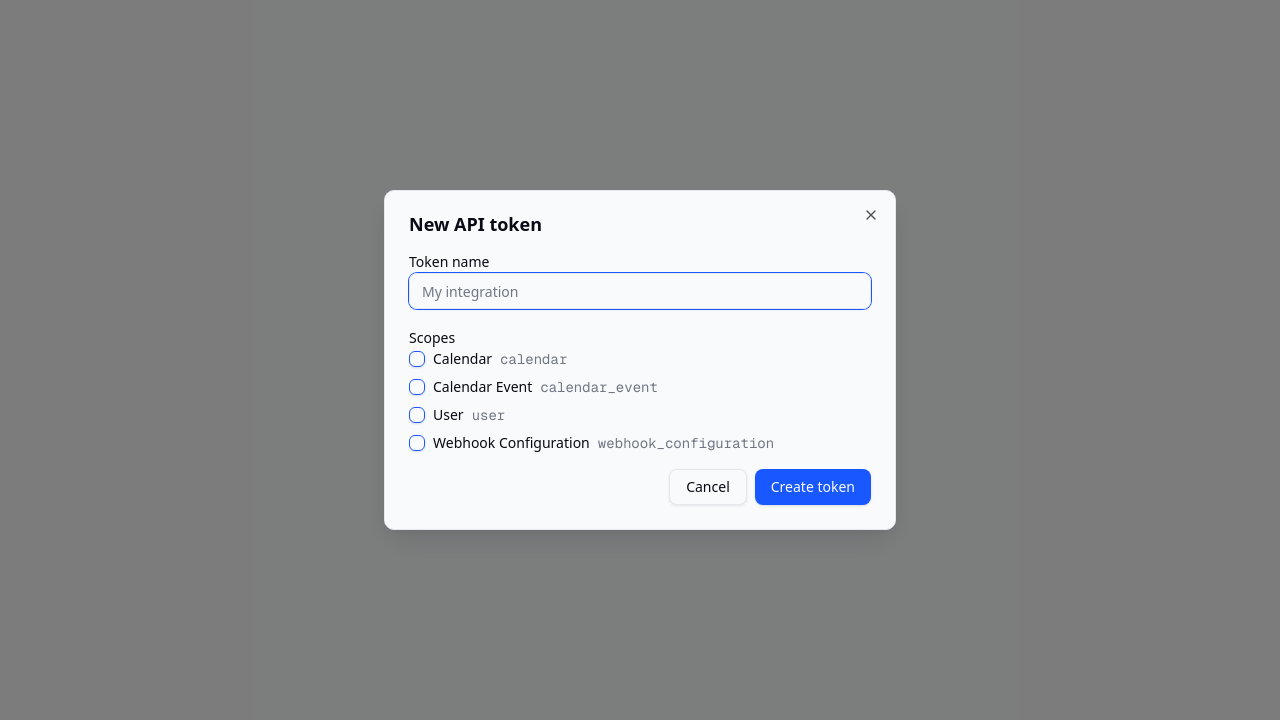
Scenario: NewTokenDialog › shows the one-time composed credential after successful create with copy button and warning
This screenshot has width=1280, height=720.
Type "Test Integration" into the field with placeholder "My integration" at (640, 291), box [409,273,871,309]
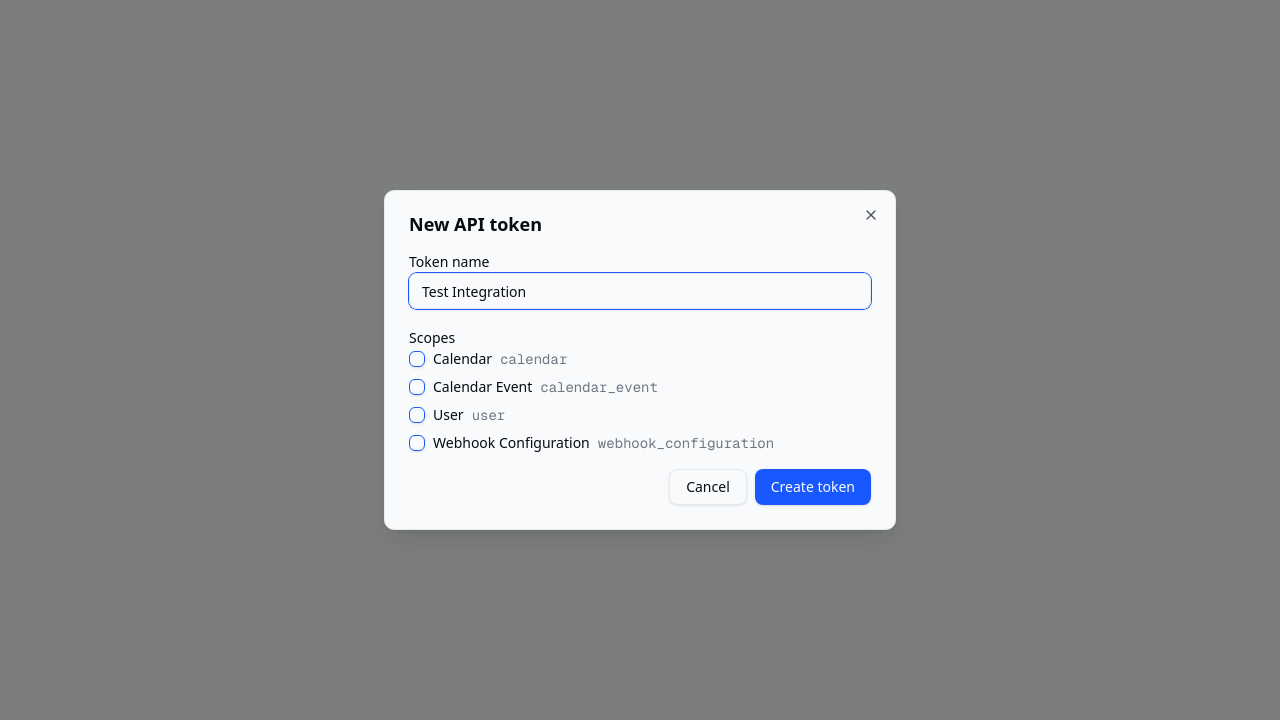
Click the checkbox with test id "scope-checkbox-calendar" at (417, 359), box [409,351,425,367]
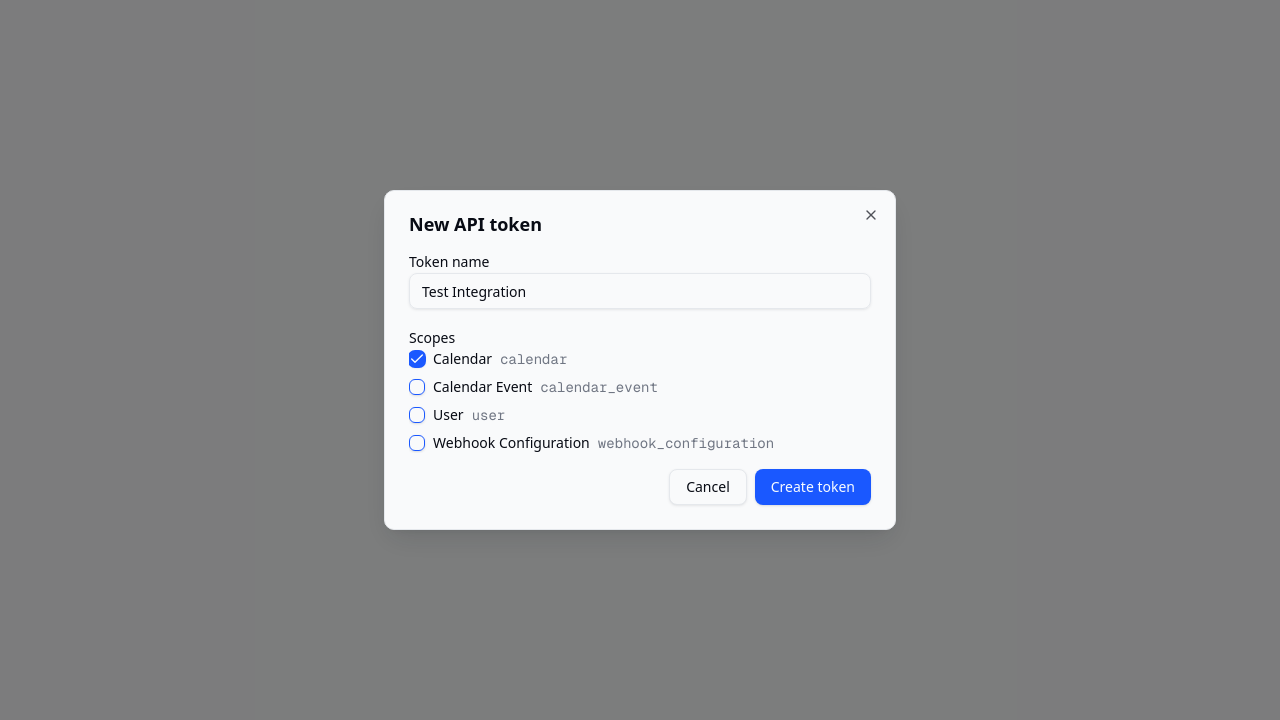
Click the button with test id "create-token-submit" at (813, 487), box [755,469,871,505]
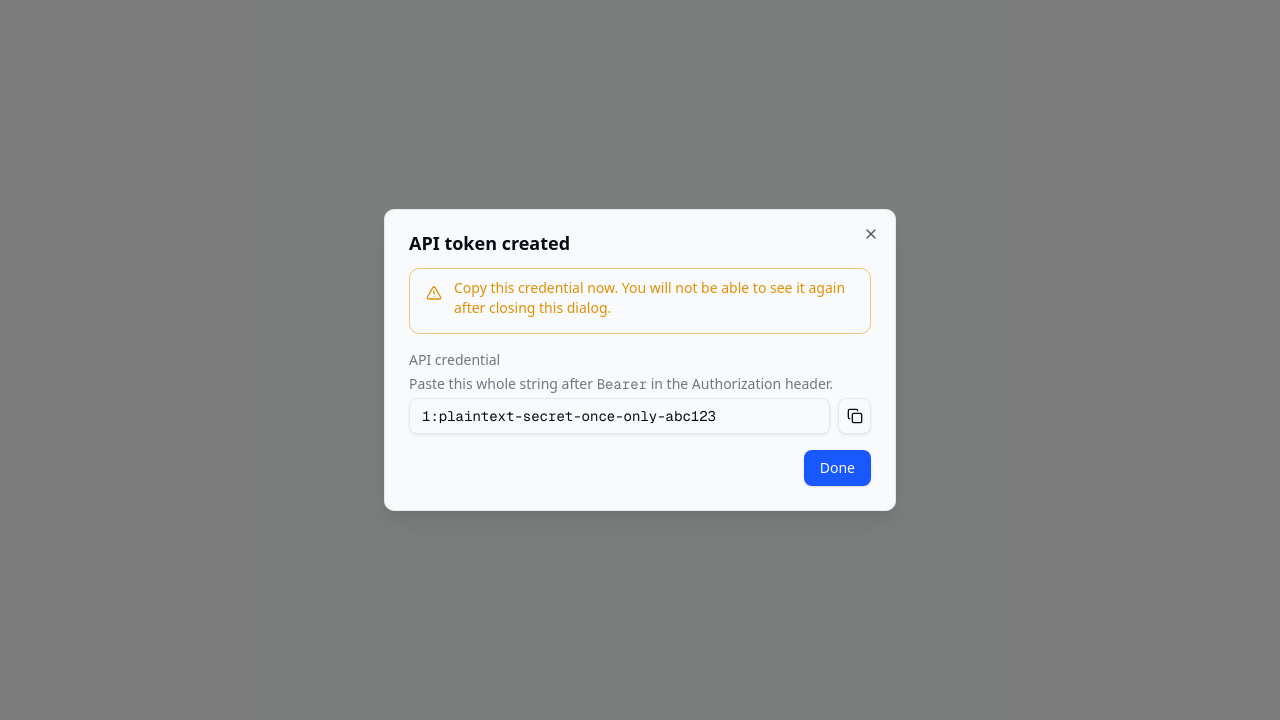
Check: the heading "API token created" is shown, box [409,231,570,255]
Check: the button with test id "copy-token-button" is shown, box [838,398,871,434]
Check: the text "You will not be able to see it again" is shown, box [454,278,845,317]
